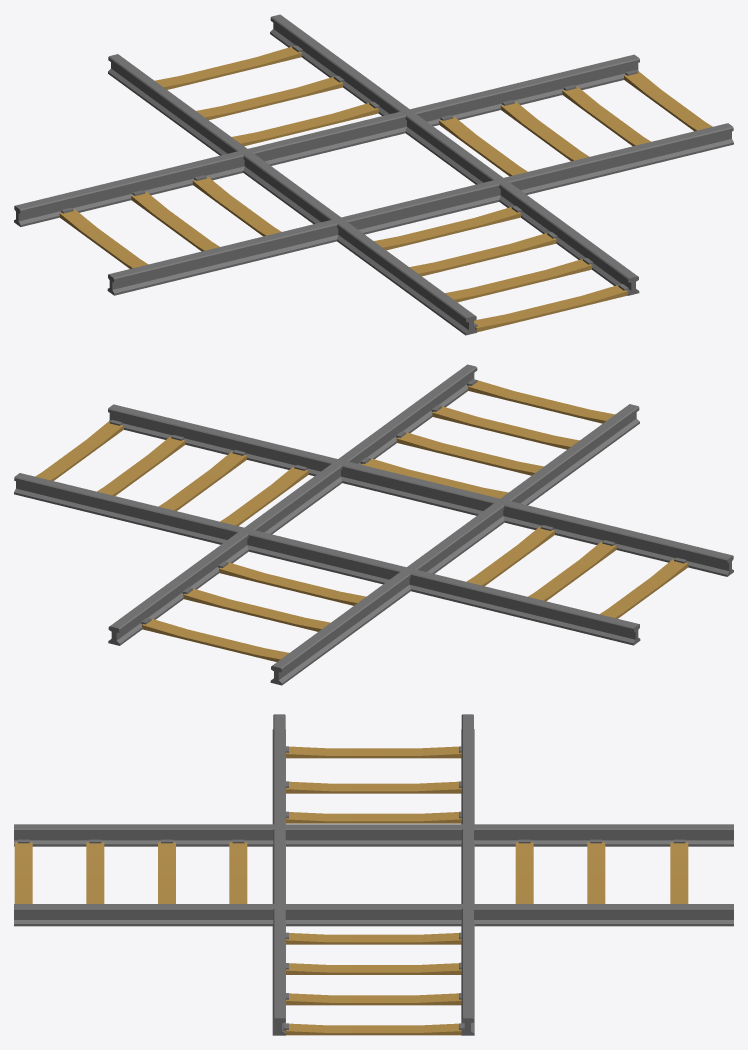
Rendered from SM_TrainTrackX.fbx.
3 renders of one model, top to bottom at view 1: azimuth 30°, elevation 25°; view 2: azimuth 150°, elevation 25°; view 3: azimuth 270°, elevation 25°, orthographic.
Parts seen in each view (by area): view 1: SM_TrainTrackX; view 2: SM_TrainTrackX; view 3: SM_TrainTrackX.
Part boxes in pixels (x1,y1,x2,y2): SM_TrainTrackX: (14,14,733,335); SM_TrainTrackX: (14,364,733,685); SM_TrainTrackX: (14,714,733,1035).
Size of the model in its own units: 1000 by 26.51 by 1000.
